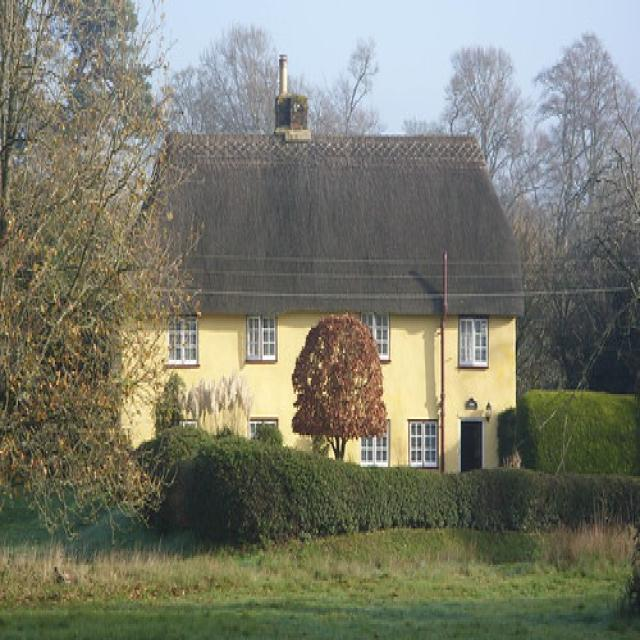building: (97, 51, 529, 500)
